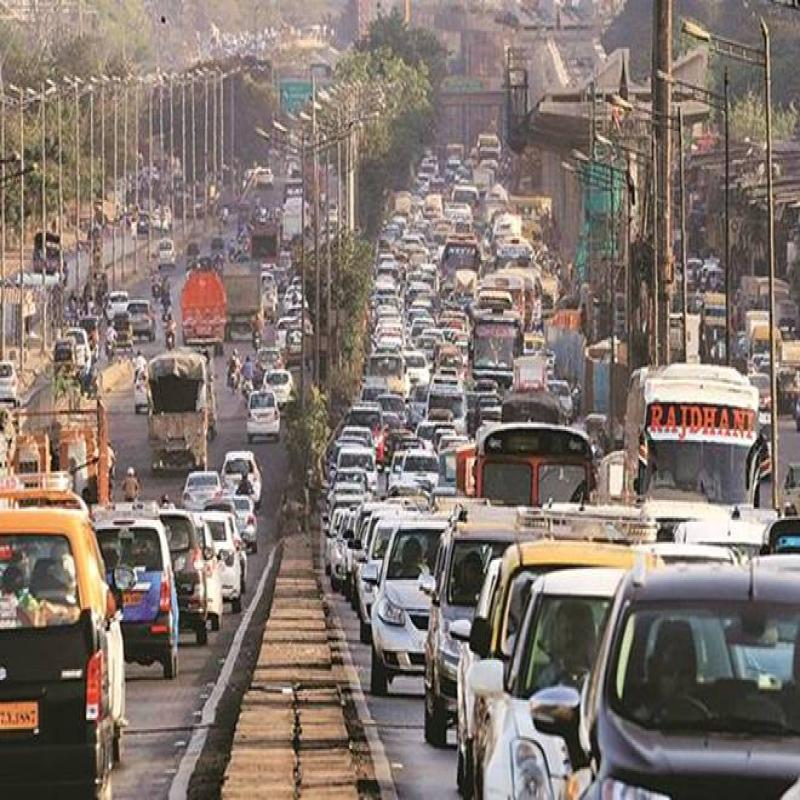car: (595, 551, 800, 800), (500, 575, 650, 800), (372, 518, 462, 686)
